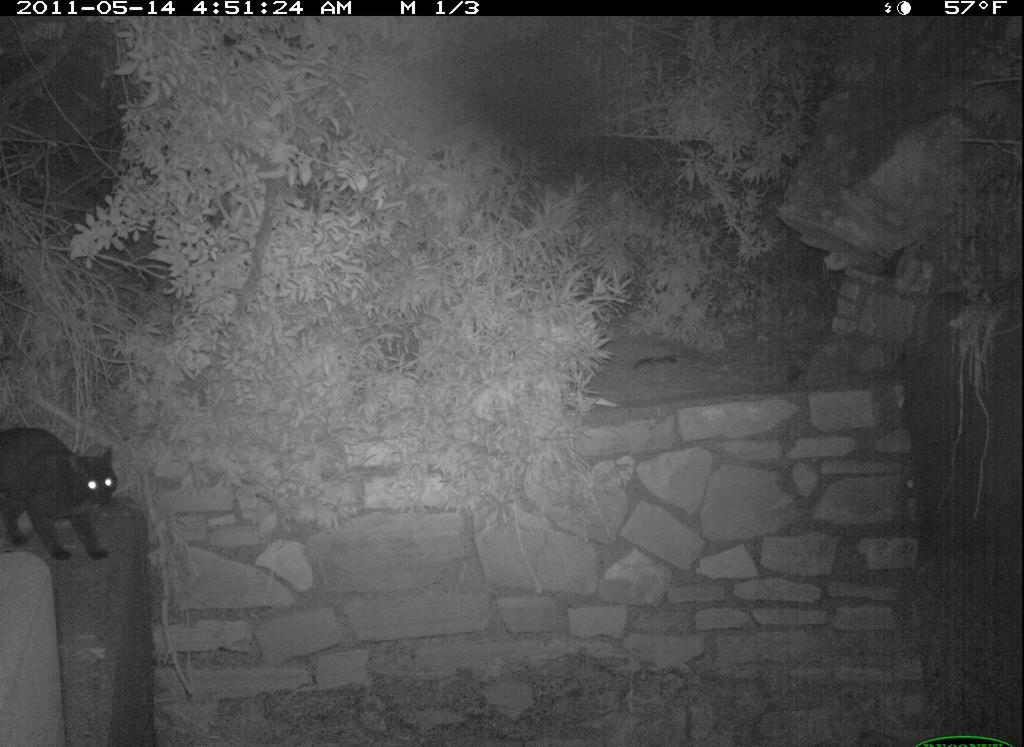cat: (1, 419, 135, 562)
